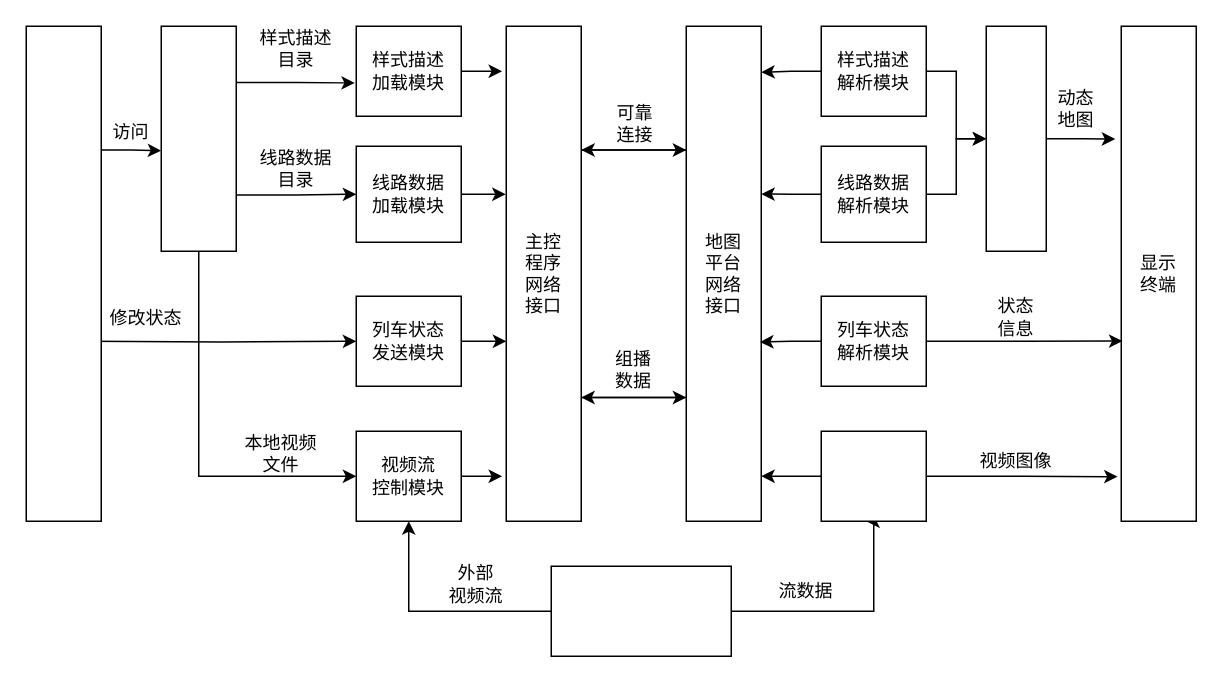
This 1223x683 diagram has some shape labels left out. The shapes that lost their labels are listed below. From the top down, each one's centre as x and y in pixels, then its label:
At point 198,138: "本地 文件".
At point 1015,138: "地图 生成 模块".
At point 63,273: "主控 程序 用户 界面".
At point 873,475: "视频流 拉取模块".
At point 640,610: "外部视频流".
